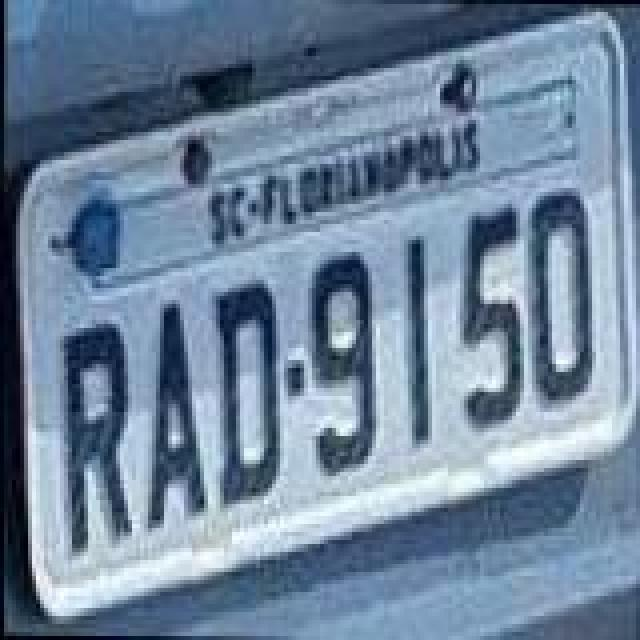1: (402, 232, 434, 452)
5: (454, 202, 526, 426)
9: (304, 252, 380, 476)
A: (142, 298, 210, 530)
D: (210, 282, 286, 514)
O: (524, 186, 600, 406)
R: (56, 318, 136, 554)
